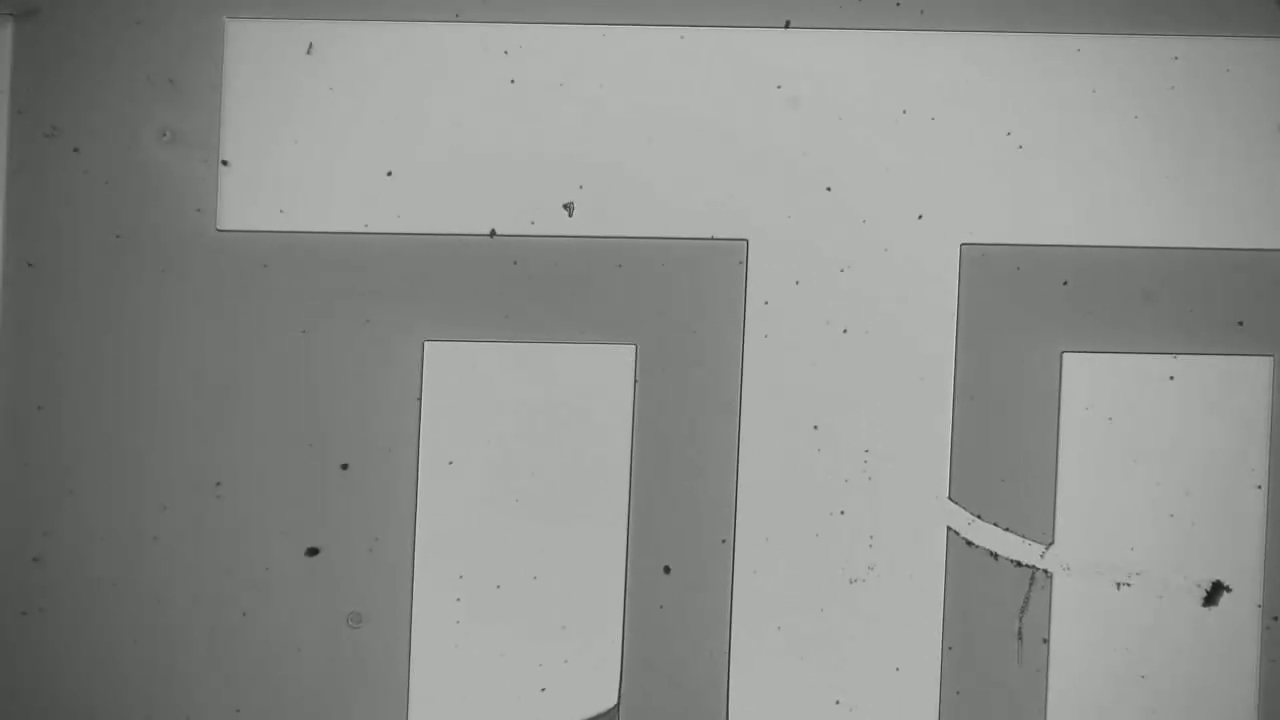Short_circuit: (927, 477, 1091, 595)
